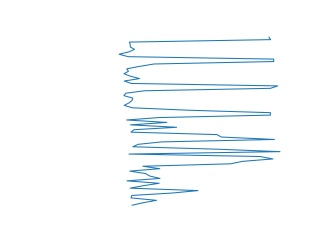crevasseRiverChannelBar: (123, 161, 267, 206)
majorRiverBedLagDeposit: (122, 120, 284, 163)
majorRiverChannelBar: (116, 34, 281, 117)
